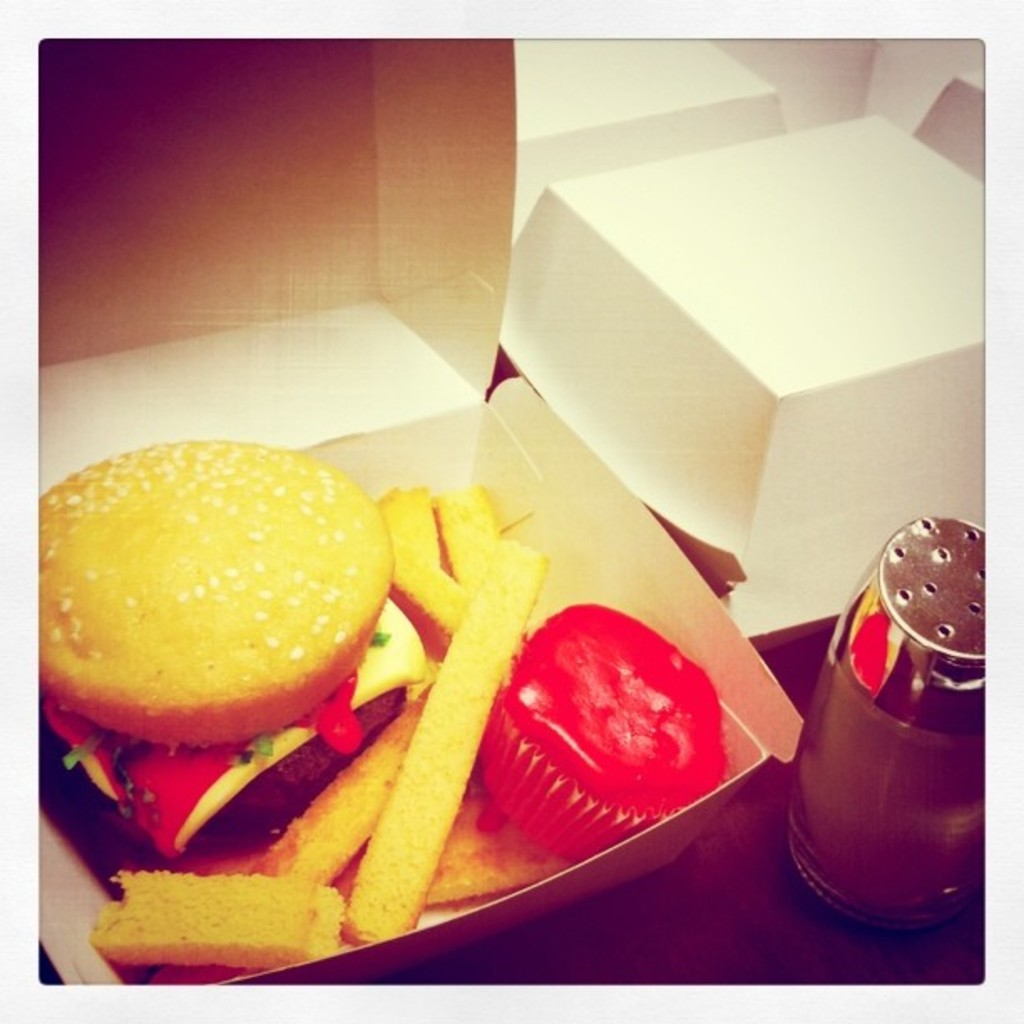French fries: (346, 540, 547, 947), (250, 665, 441, 860), (80, 856, 351, 957), (383, 548, 465, 639), (458, 466, 488, 583), (389, 485, 436, 555)
